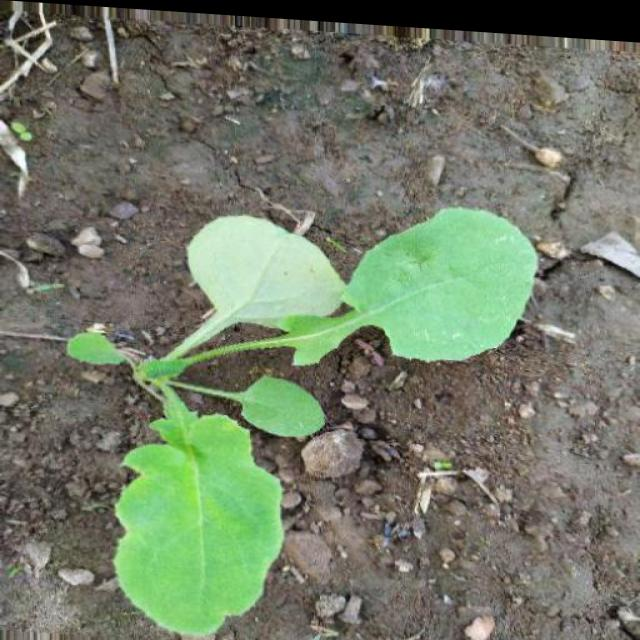weed: (54, 178, 541, 640)
